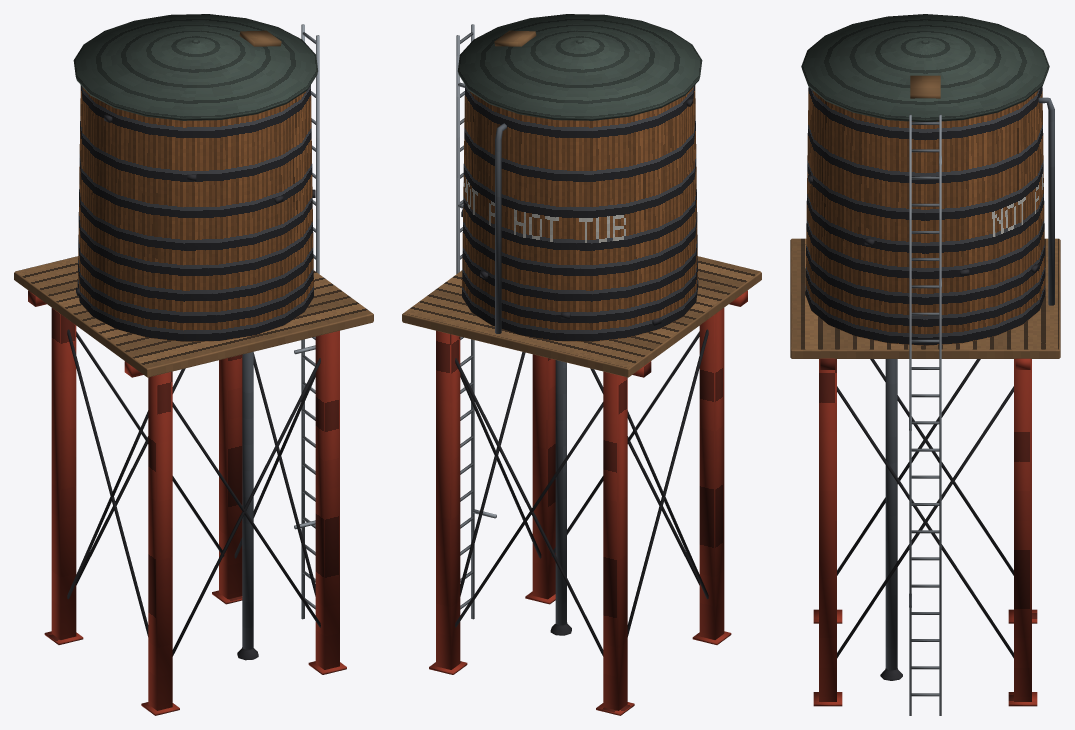
File: p_watertower.glb
3 views of the same model, side by side, from view 1: azimuth 30°, elevation 25°; view 2: azimuth 150°, elevation 25°; view 3: azimuth 270°, elevation 25° (orthographic).
Visible parts, largest first — view 1: watertower_lod0; view 2: watertower_lod0; view 3: watertower_lod0.
Boxes of the visible parts, left/top/right/bottom form: watertower_lod0: left=14, top=14, right=373, bottom=715; watertower_lod0: left=402, top=14, right=761, bottom=715; watertower_lod0: left=790, top=14, right=1060, bottom=715.
Size of what is drawn, in the model's own units: 3.6 by 9.1 by 3.6.
2 materials, 2 textured.
